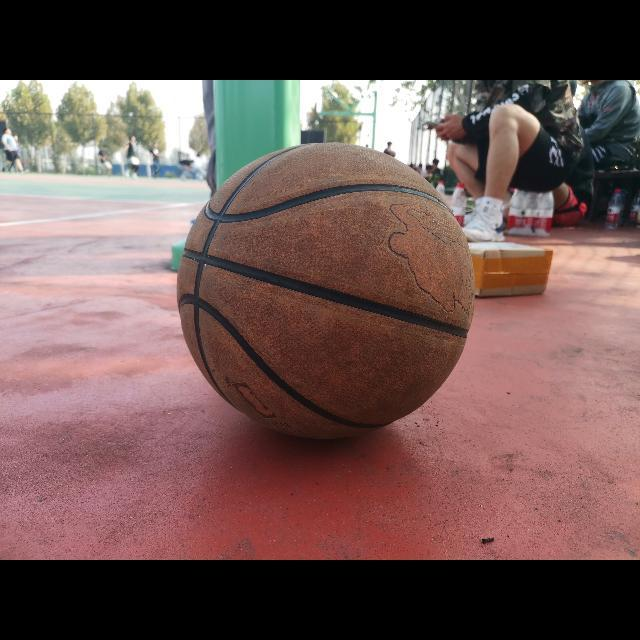basketball: (177, 142, 475, 438)
